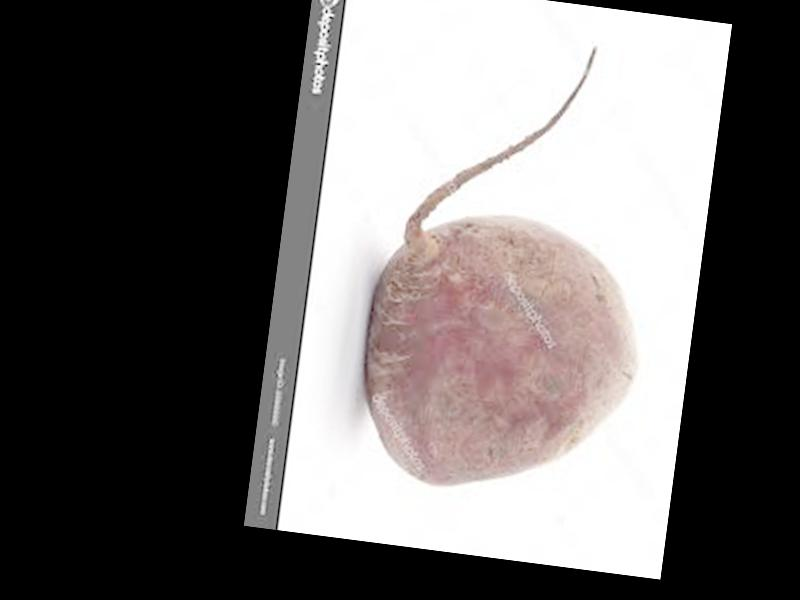Beet: (349, 24, 673, 508)
